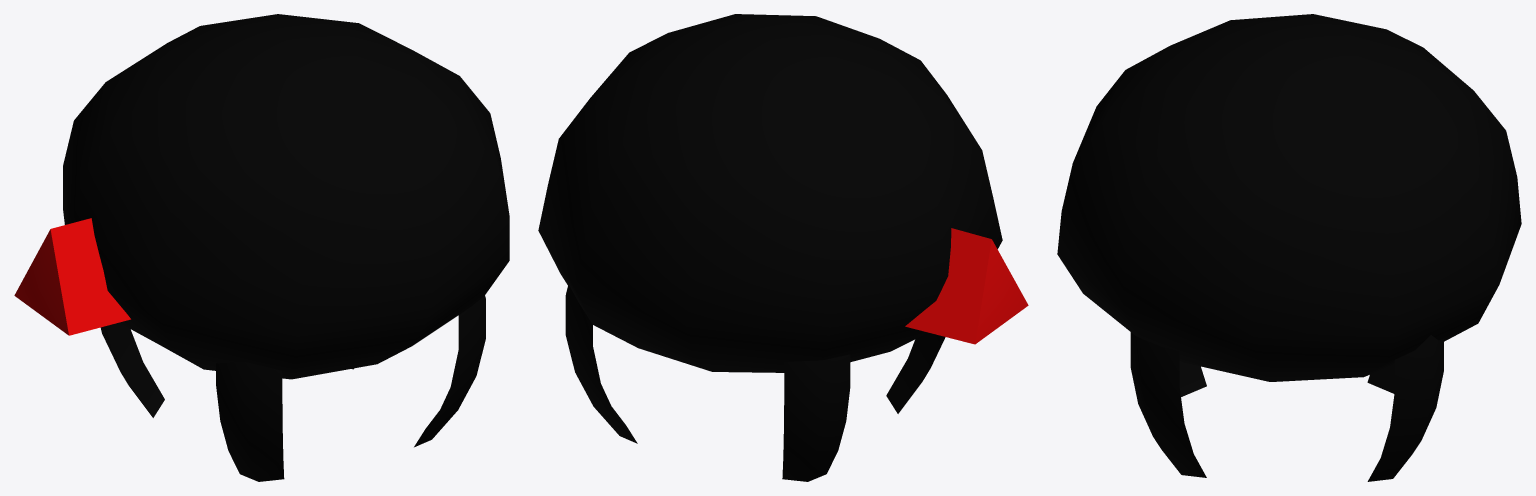
The model's file is enemy.fbx.
The picture shows the model from 3 angles, left to right: view 1: azimuth 30°, elevation 25°; view 2: azimuth 150°, elevation 25°; view 3: azimuth 270°, elevation 25°; orthographic projection.
Parts seen in each view (by area): view 1: polySurface10, polySurface15, polySurface13, polySurface11, polySurface12; view 2: polySurface10, polySurface15, polySurface12, polySurface14, polySurface13; view 3: polySurface10, polySurface14, polySurface11, polySurface13, polySurface12.
Part boxes in pixels (<box>): polySurface10: <box>63,14,509,379</box>; polySurface15: <box>14,218,130,335</box>; polySurface13: <box>216,361,284,481</box>; polySurface11: <box>414,295,485,447</box>; polySurface12: <box>100,322,164,417</box>; polySurface10: <box>538,14,1002,372</box>; polySurface15: <box>905,228,1028,344</box>; polySurface12: <box>782,354,850,481</box>; polySurface14: <box>565,284,637,443</box>; polySurface13: <box>886,332,945,413</box>; polySurface10: <box>1057,14,1521,381</box>; polySurface14: <box>1367,335,1443,481</box>; polySurface11: <box>1130,332,1206,477</box>; polySurface13: <box>1179,361,1206,396</box>; polySurface12: <box>1367,364,1394,393</box>.
Bounding box in the file's own units: 12.11 × 10.14 × 10.99.
